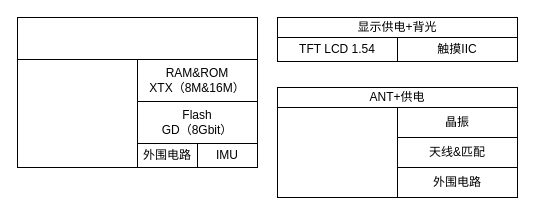
This 535x215 diagram has some shape labels left out. The shapes that lost their labels are listed below. From the top down, each one's centre as x and y in pixels, then its label:
pixel 137 38: 主供电 DC-DC
pixel 77 113: 主控 ESP32S3
pixel 337 152: nRF52810
